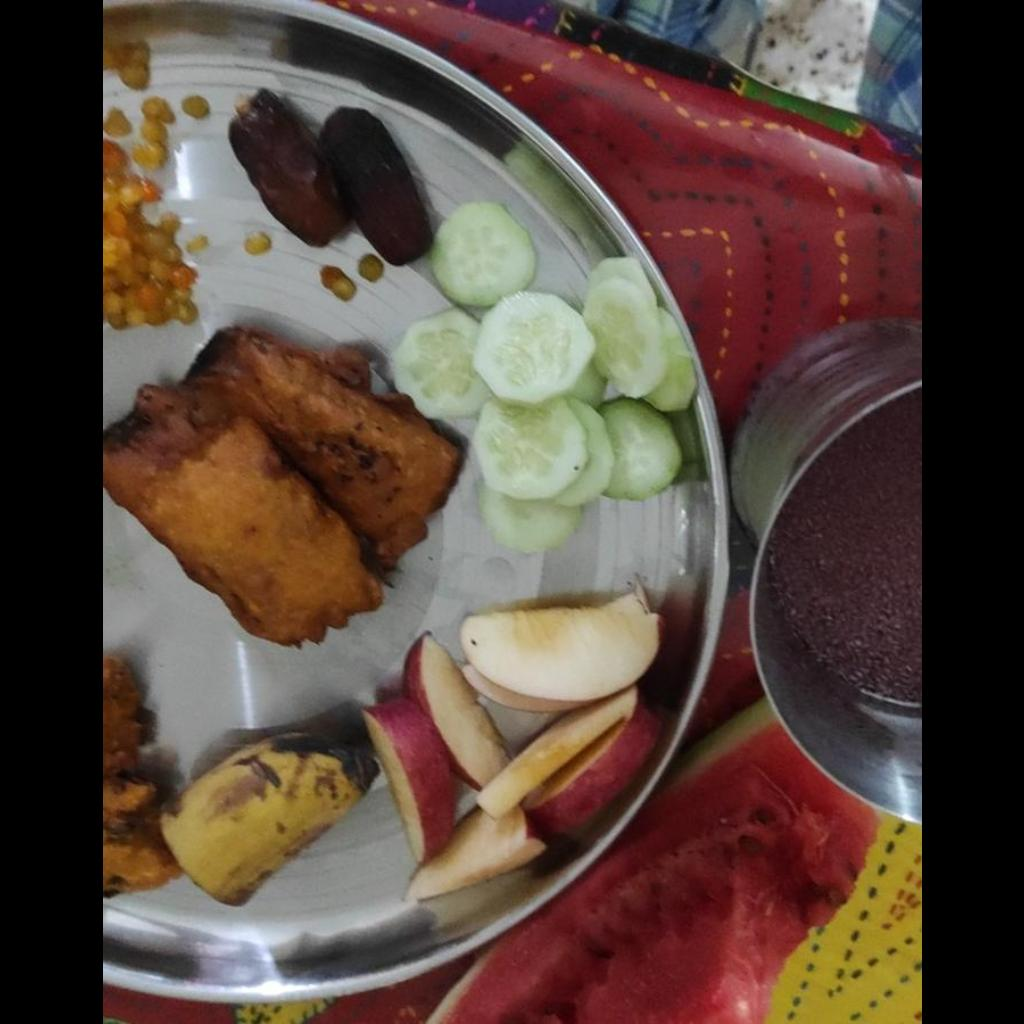apple: (370, 588, 663, 896)
banana: (167, 740, 376, 904)
beguni: (102, 322, 467, 647)
burinda: (102, 39, 210, 324)
cucumber: (389, 197, 695, 550)
dates: (228, 88, 434, 258)
juice: (763, 390, 920, 713)
